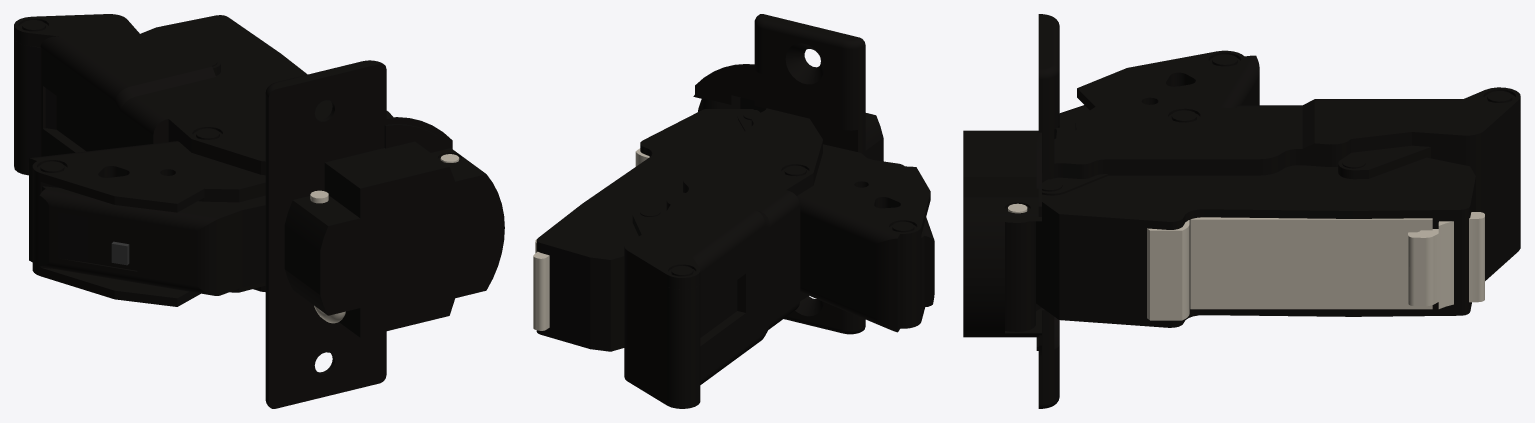
3 renders of one model, left to right at view 1: azimuth 30°, elevation 25°; view 2: azimuth 150°, elevation 25°; view 3: azimuth 270°, elevation 25°, orthographic. The views are drawn at different scales.
Parts seen in each view (by area): view 1: bau0079302490-1, bau0079291413-1, bau0079324562-1, bau0079298416-1, bau0082110774-1, bau0082114196-1; view 2: bau0079291413-1, bau0079298416-1, bau0082110774-1, bau0079302490-1, bau0082114196-1, bau0025540121-1, bau0079324562-1; view 3: bau0079291413-1, bau0082110774-1, bau0025540121-1, bau0079302490-1, bau0079298416-1, bau0082114196-1, bau0079324562-1.
Boxes of the visible parts, x1=… form: bau0079302490-1: x1=265, y1=60, x2=504, y2=408; bau0079291413-1: x1=14, y1=14, x2=265, y2=291; bau0079324562-1: x1=39, y1=186, x2=265, y2=295; bau0079298416-1: x1=29, y1=141, x2=265, y2=306; bau0082110774-1: x1=140, y1=15, x2=392, y2=119; bau0082114196-1: x1=14, y1=38, x2=220, y2=162; bau0079291413-1: x1=624, y1=97, x2=822, y2=408; bau0079298416-1: x1=737, y1=110, x2=930, y2=332; bau0082110774-1: x1=536, y1=109, x2=753, y2=351; bau0079302490-1: x1=693, y1=14, x2=883, y2=334; bau0082114196-1: x1=632, y1=207, x2=700, y2=396; bau0025540121-1: x1=533, y1=148, x2=649, y2=330; bau0079324562-1: x1=868, y1=158, x2=934, y2=308; bau0079291413-1: x1=1005, y1=87, x2=1520, y2=331; bau0082110774-1: x1=1036, y1=157, x2=1475, y2=327; bau0025540121-1: x1=1147, y1=212, x2=1484, y2=320; bau0079302490-1: x1=963, y1=14, x2=1059, y2=408; bau0079298416-1: x1=1042, y1=50, x2=1259, y2=195; bau0082114196-1: x1=1338, y1=111, x2=1520, y2=236; bau0079324562-1: x1=1054, y1=86, x2=1178, y2=138.
Bounding box in the file's own units: 65.68 × 57 × 84.91.
